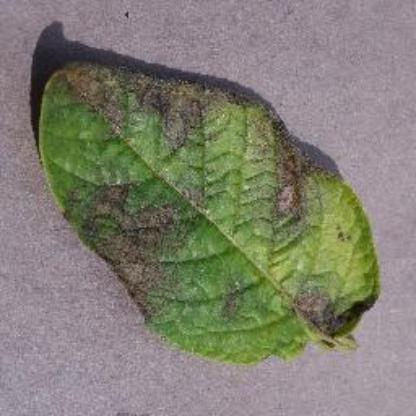Late-Blight: (42, 43, 390, 377)
